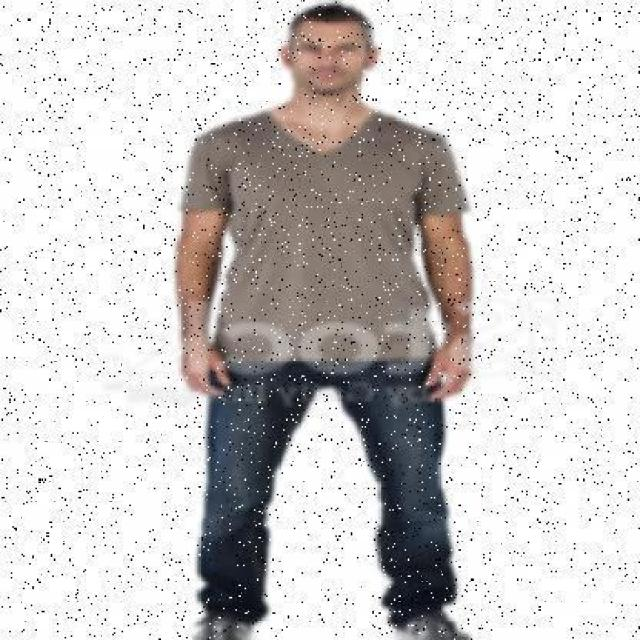person: (178, 1, 479, 640)
